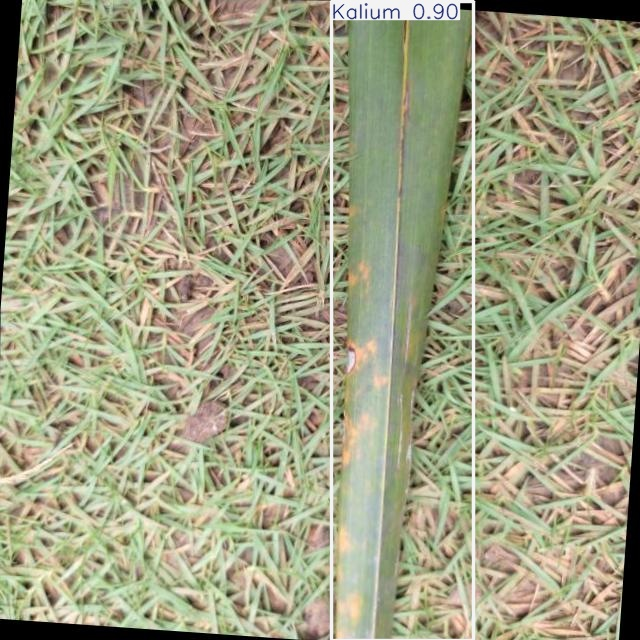Kalium: (332, 2, 473, 640)
